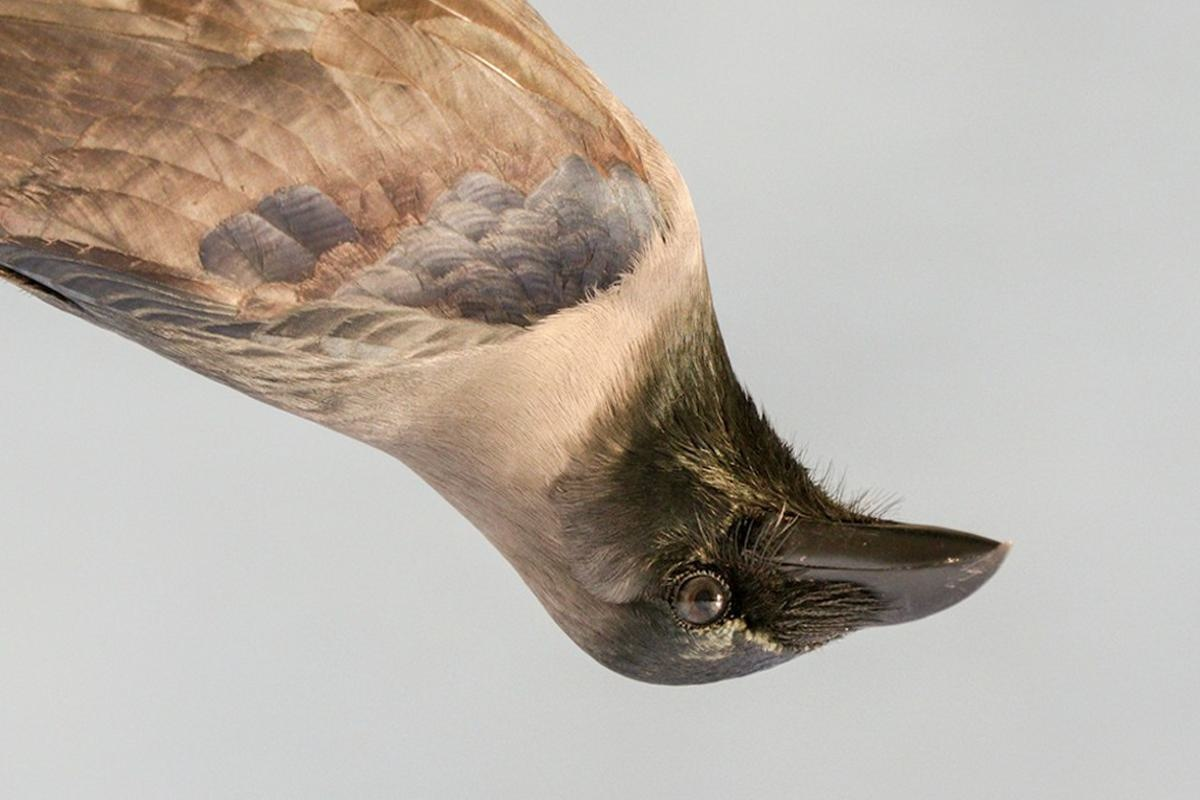crow: (1, 1, 1020, 691)
